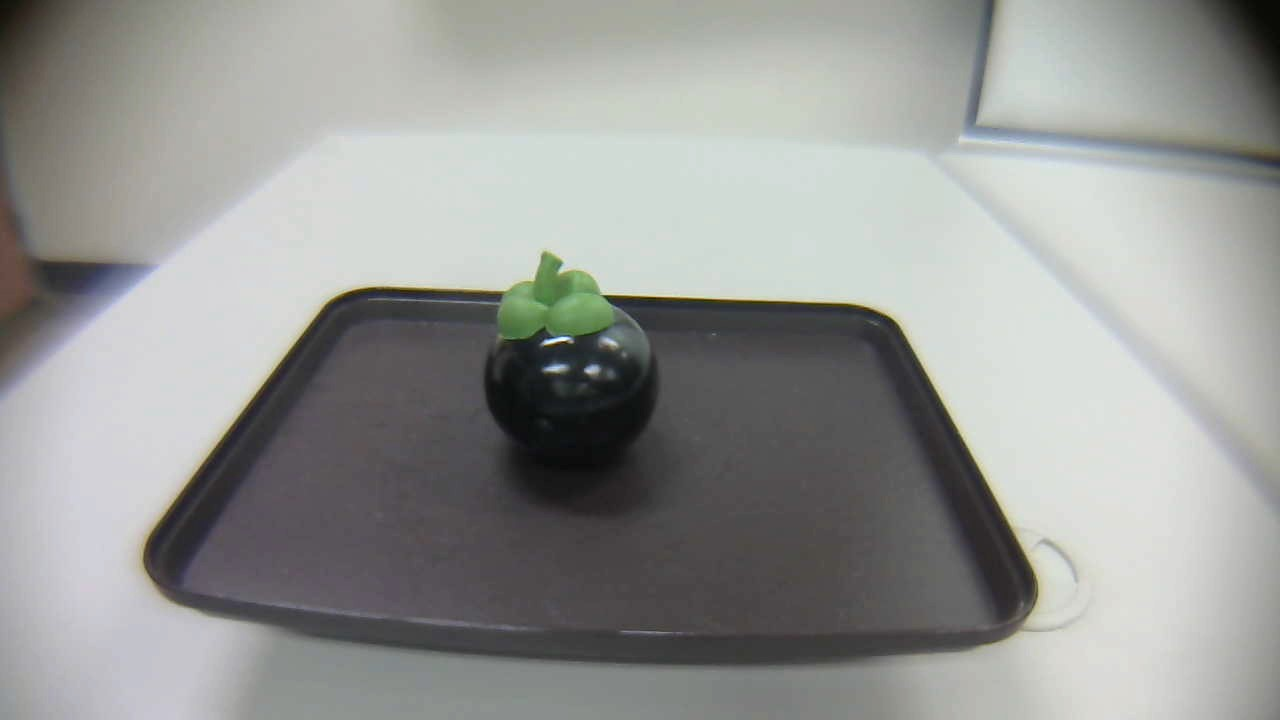mangosteen: (470, 250, 673, 480)
